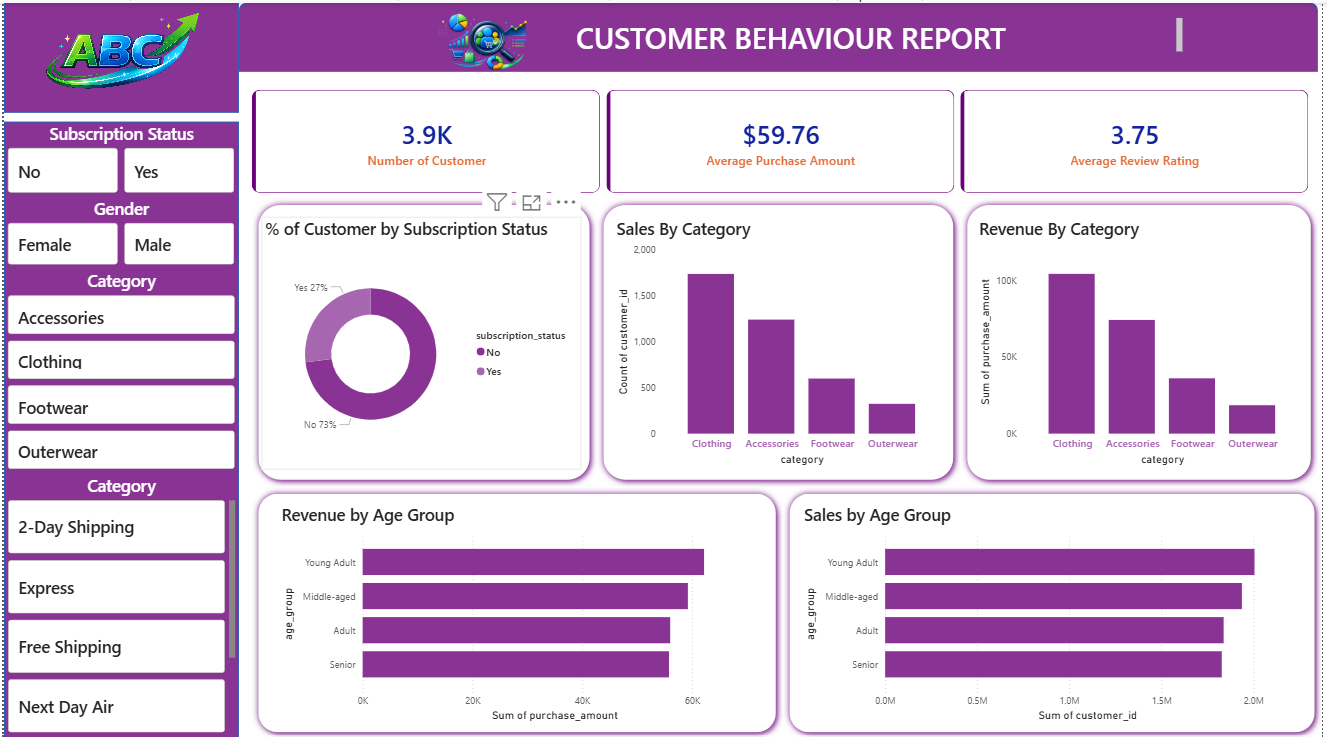

Layout of this report page (visuals, bound fields, positions):
{"tool":"powerbi","page":{"name":"Page 1","canvas":[1700,950],"ordinal":0},"visuals":[{"type":"cardVisual","fields":{"Data":["customer_shopping_behavior_cleaned.Number of Customer","customer_shopping_behavior_cleaned.Average Purchase Amount","customer_shopping_behavior_cleaned.Average Review Rating"]},"box":[303.3,95.2,1397.3,167.8],"z":0},{"type":"shape","box":[303.3,0,1392.4,88.7],"z":1000},{"type":"textbox","box":[522.8,14.5,1003.6,56.5],"z":2000},{"type":"image","box":[490.5,0,254.9,103.3],"z":3000},{"type":"shape","box":[319.5,251.7,445.3,372.7],"z":4000},{"type":"donutChart","title":"% of Customer by Subscription Status","fields":{"Category":["customer_shopping_behavior_cleaned.subscription_status"],"Y":["CountNonNull(customer_shopping_behavior_cleaned.customer_id)"]},"box":[332.4,275.9,413,325.9],"z":5000},{"type":"shape","box":[764.8,251.7,469.5,372.7],"z":6000},{"type":"shape","box":[1234.3,251.7,461.4,372.7],"z":7000},{"type":"clusteredColumnChart","title":"Sales By Category","fields":{"Category":["customer_shopping_behavior_cleaned.category"],"Y":["CountNonNull(customer_shopping_behavior_cleaned.customer_id)"]},"box":[785.8,275.9,429.2,325.9],"z":8000},{"type":"clusteredColumnChart","title":"Revenue By Category","fields":{"Category":["customer_shopping_behavior_cleaned.category"],"Y":["Sum(customer_shopping_behavior_cleaned.purchase_amount)"]},"box":[1253.7,275.9,426,325.9],"z":9000},{"type":"shape","box":[319.5,624.4,685.7,325.9],"z":10000},{"type":"clusteredBarChart","title":"Revenue by Age Group","fields":{"Y":["Sum(customer_shopping_behavior_cleaned.purchase_amount)"],"Category":["customer_shopping_behavior_cleaned.age_group"]},"box":[353.3,645.4,621.2,287.2],"z":11000},{"type":"shape","box":[1005.2,624.4,695.4,325.9],"z":12000},{"type":"clusteredBarChart","title":"Sales by Age Group","fields":{"Category":["customer_shopping_behavior_cleaned.age_group"],"Y":["Sum(customer_shopping_behavior_cleaned.customer_id)"]},"box":[1027.8,645.4,651.8,287.2],"z":13000},{"type":"shape","box":[0,0,303.3,142],"z":14000},{"type":"shape","box":[0,153.3,303.3,797],"z":15000},{"type":"advancedSlicerVisual","title":"Subscription Status","fields":{"Values":["customer_shopping_behavior_cleaned.subscription_status"]},"box":[0,153.3,303.3,96.8],"z":16000},{"type":"advancedSlicerVisual","title":"Gender","fields":{"Values":["customer_shopping_behavior_cleaned.gender"]},"box":[0,250.1,303.3,93.6],"z":16001},{"type":"advancedSlicerVisual","title":"Category","fields":{"Values":["customer_shopping_behavior_cleaned.category"]},"box":[0,343.7,303.3,264.6],"z":16002},{"type":"advancedSlicerVisual","title":"Category","fields":{"Values":["customer_shopping_behavior_cleaned.shipping_type"]},"box":[0,608.3,303.3,342.1],"z":16003},{"type":"image","box":[0,0,300.1,142],"z":16004}]}

Visuals, with their boxes in screenshot pixels (x1, y1, x2, y2), scaled from the page's 1700x950 canvas onto the 1327x737 screenshot:
cardVisual - customer_shopping_behavior_cleaned.Number of Customer x customer_shopping_behavior_cleaned.Average Purchase Amount: Rect(237, 74, 1326, 204)
shape: Rect(237, 0, 1324, 69)
textbox: Rect(408, 11, 1191, 55)
image: Rect(383, 0, 582, 80)
shape: Rect(249, 195, 597, 484)
"% of Customer by Subscription Status" donutChart: Rect(259, 214, 582, 467)
shape: Rect(597, 195, 963, 484)
shape: Rect(963, 195, 1324, 484)
"Sales By Category" clusteredColumnChart: Rect(613, 214, 948, 467)
"Revenue By Category" clusteredColumnChart: Rect(979, 214, 1311, 467)
shape: Rect(249, 484, 785, 736)
"Revenue by Age Group" clusteredBarChart: Rect(276, 501, 761, 724)
shape: Rect(785, 484, 1326, 736)
"Sales by Age Group" clusteredBarChart: Rect(802, 501, 1311, 724)
shape: Rect(0, 0, 237, 110)
shape: Rect(0, 119, 237, 736)
"Subscription Status" advancedSlicerVisual: Rect(0, 119, 237, 194)
"Gender" advancedSlicerVisual: Rect(0, 194, 237, 267)
"Category" advancedSlicerVisual: Rect(0, 267, 237, 472)
"Category" advancedSlicerVisual: Rect(0, 472, 237, 736)
image: Rect(0, 0, 234, 110)
